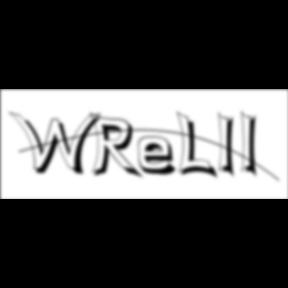I: (218, 110, 242, 182)
L: (177, 110, 221, 182)
R: (90, 112, 146, 182)
W: (9, 110, 107, 178)
e: (138, 135, 184, 178)
l: (242, 108, 264, 182)
